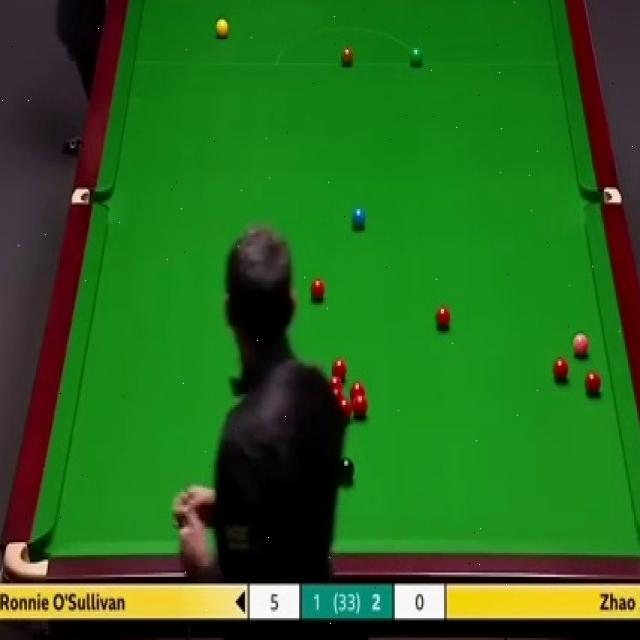black-ball: (337, 457, 355, 481)
blue-ball: (352, 207, 366, 230)
brown-ball: (339, 46, 354, 67)
green-ball: (409, 46, 425, 68)
pink-ball: (571, 333, 591, 358)
red-ball: (584, 370, 602, 395), (553, 355, 569, 383), (309, 277, 326, 303), (434, 305, 451, 329), (353, 393, 368, 419), (331, 357, 347, 381), (337, 398, 352, 422), (326, 376, 343, 394), (349, 380, 367, 397)
yellow-ball: (215, 18, 228, 41)
